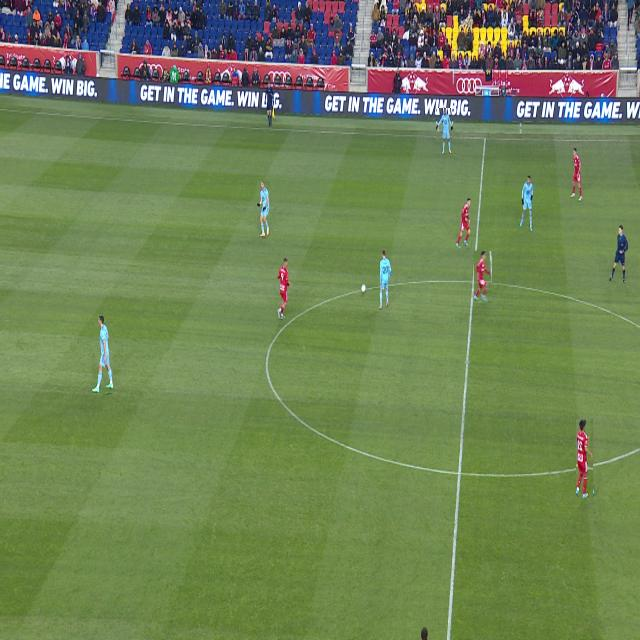football: (361, 284, 366, 293)
player: (92, 316, 113, 393), (577, 420, 593, 498), (474, 252, 492, 301), (278, 258, 290, 320), (456, 199, 471, 248), (520, 176, 533, 231), (257, 182, 270, 237), (379, 250, 391, 309), (437, 108, 452, 154), (570, 148, 583, 201), (421, 628, 428, 639)
referee: (609, 225, 628, 283)
